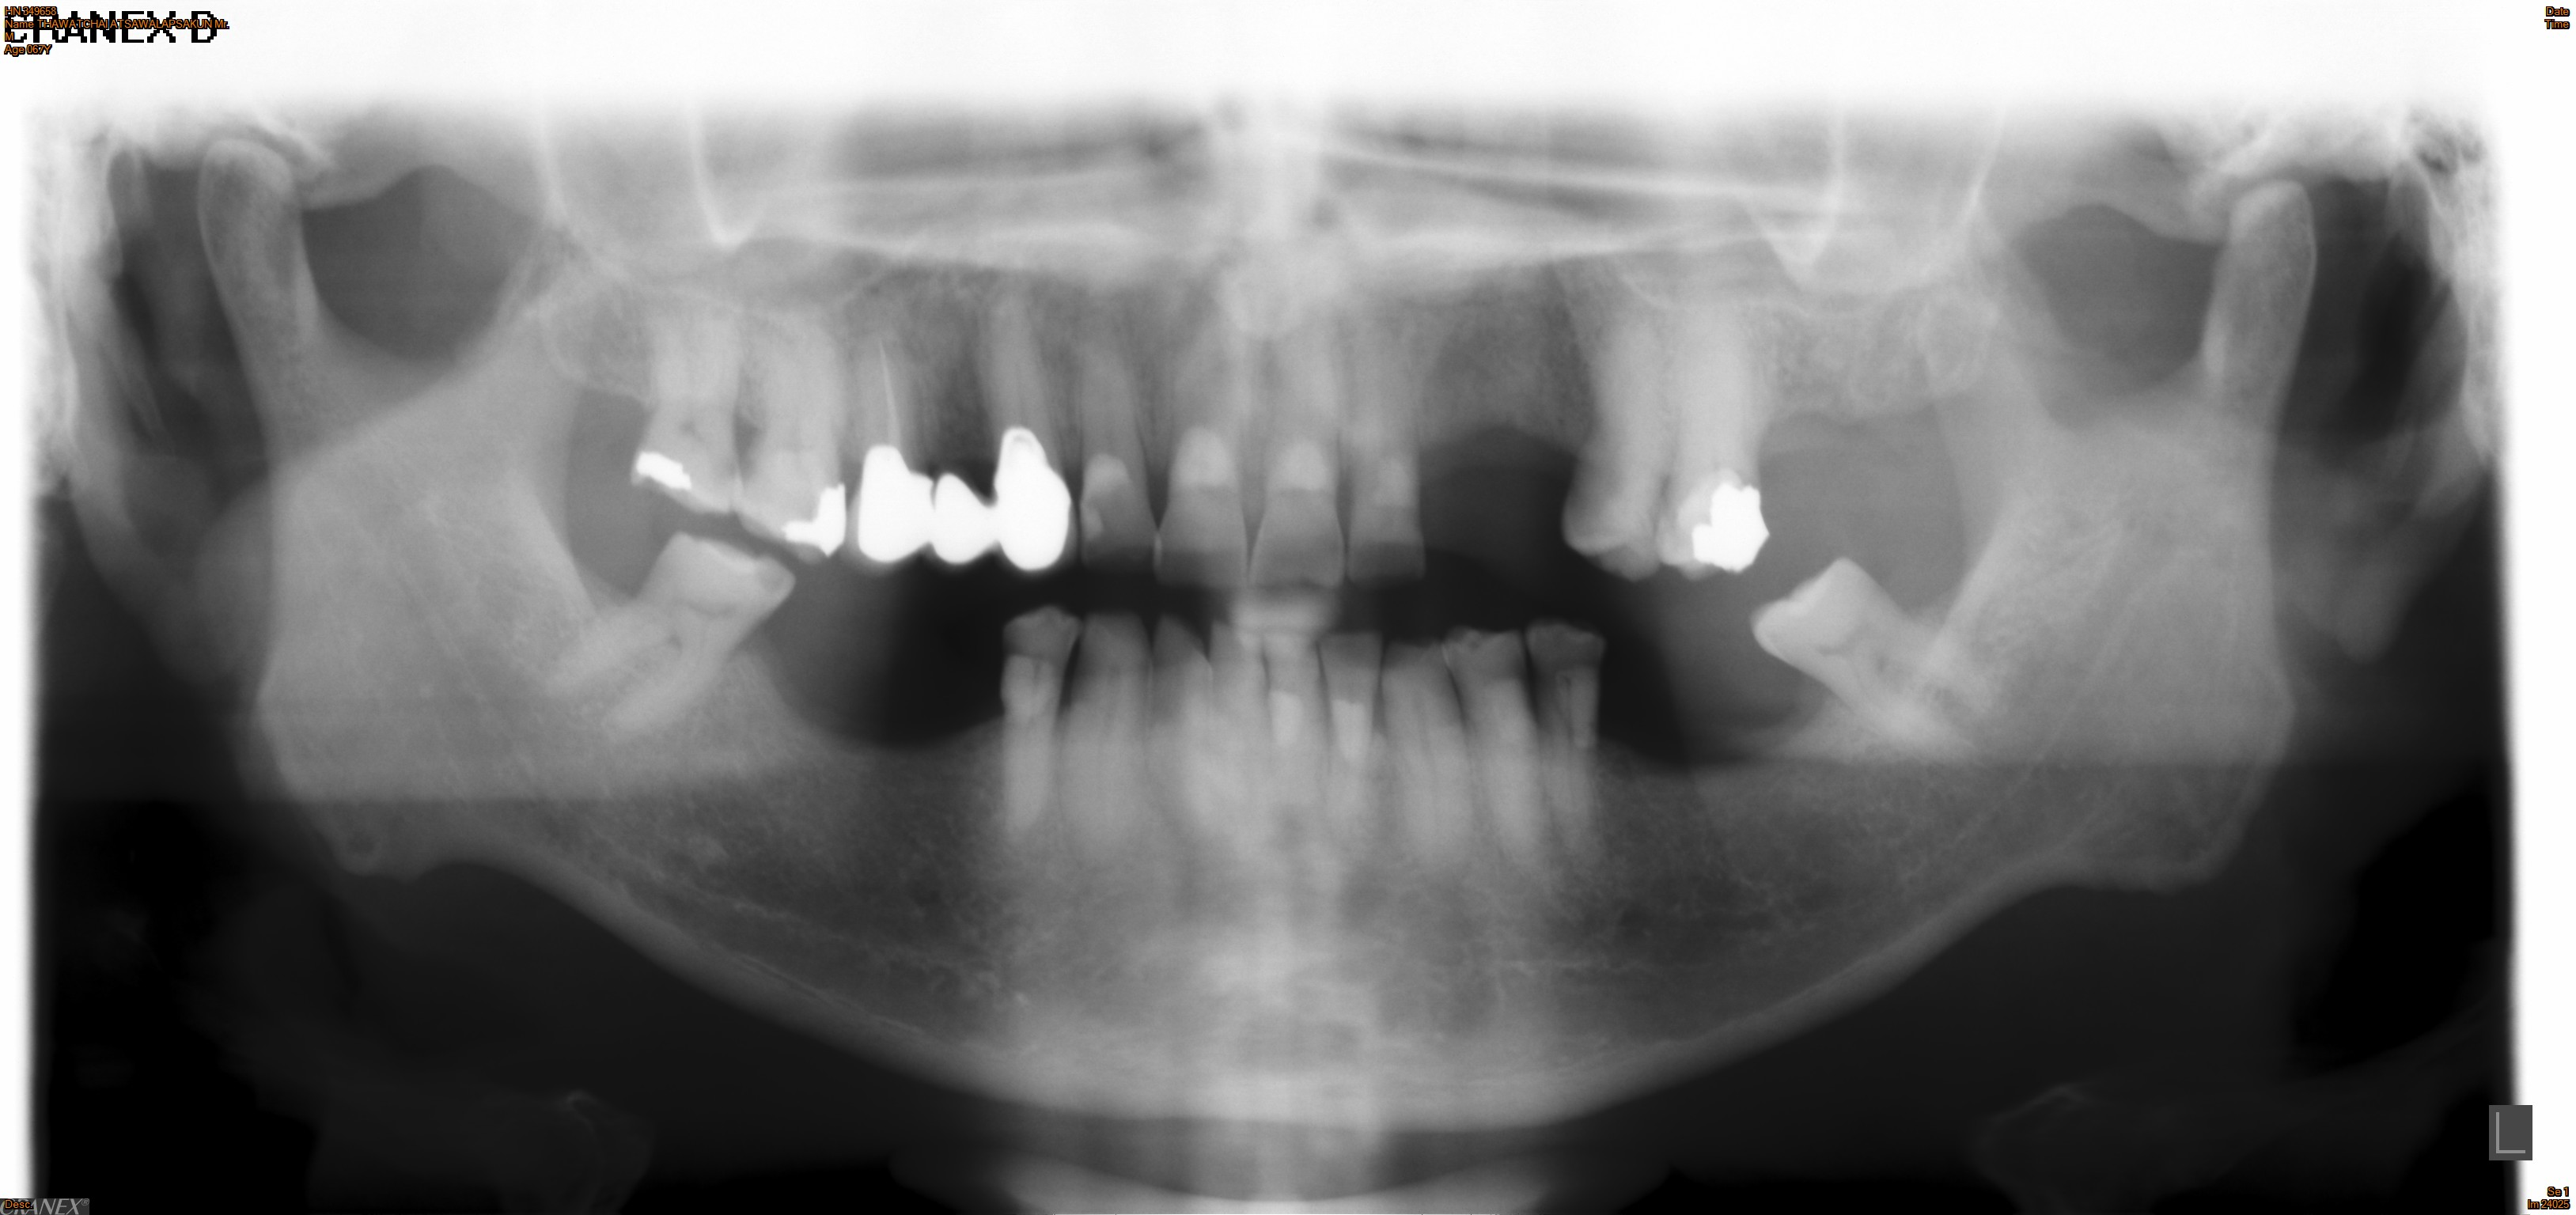periodontitis: (522, 520, 798, 760), (1648, 310, 1779, 588), (621, 291, 756, 529), (987, 601, 1092, 877), (1521, 604, 1618, 896)
